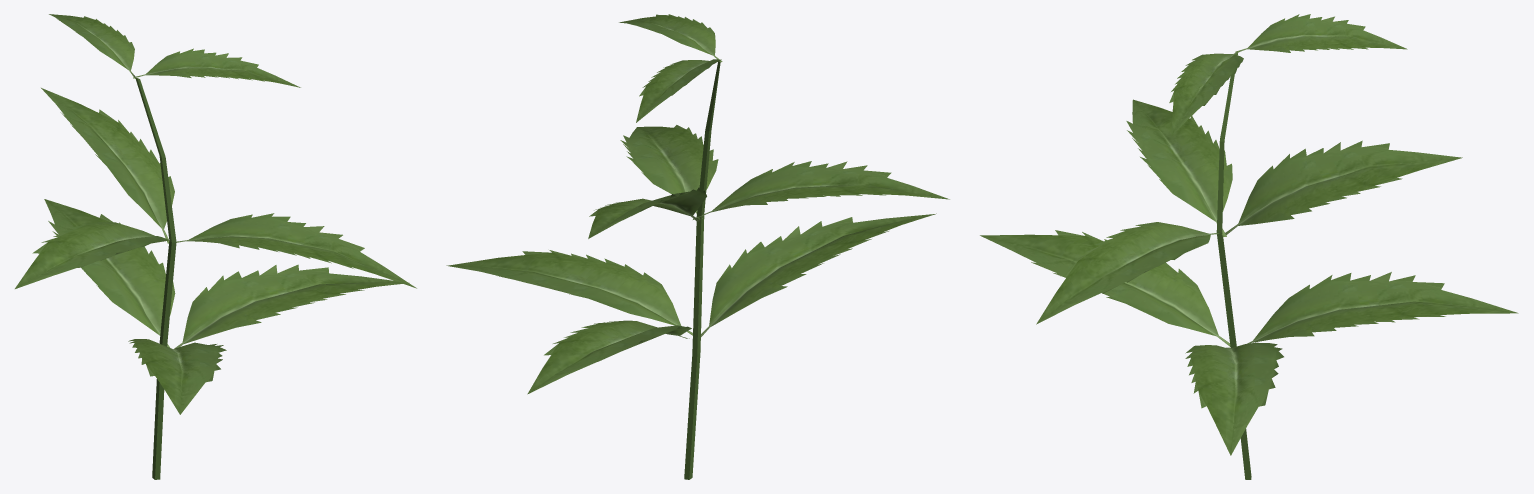
File: nettle_02_lod1.gltf
The picture shows the model from 3 angles, left to right: view 1: azimuth 30°, elevation 25°; view 2: azimuth 150°, elevation 25°; view 3: azimuth 270°, elevation 25°; orthographic projection. The views are drawn at different scales.
Visible parts, largest first — view 1: Nettle 02; view 2: Nettle 02; view 3: Nettle 02.
Part boxes in pixels (x1,y1,x2,y2): Nettle 02: [15, 14, 416, 479]; Nettle 02: [446, 14, 949, 479]; Nettle 02: [980, 14, 1518, 479].
Bounding box in the file's own units: 0.2603 × 0.2447 × 0.2722.
Materials: 1 (1 with a texture image).
